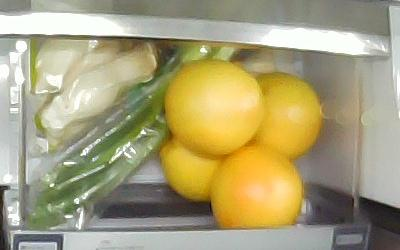grapefruit: (163, 58, 265, 157), (209, 143, 303, 227), (251, 70, 322, 160), (158, 134, 227, 201)
